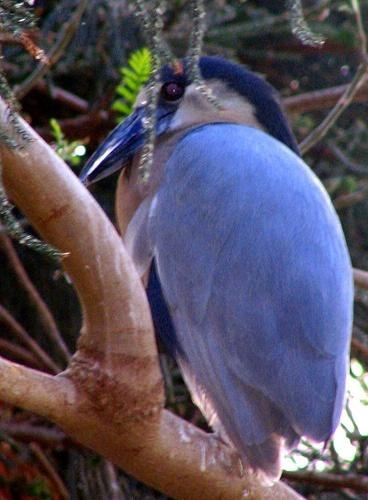bird: (80, 55, 354, 487)
